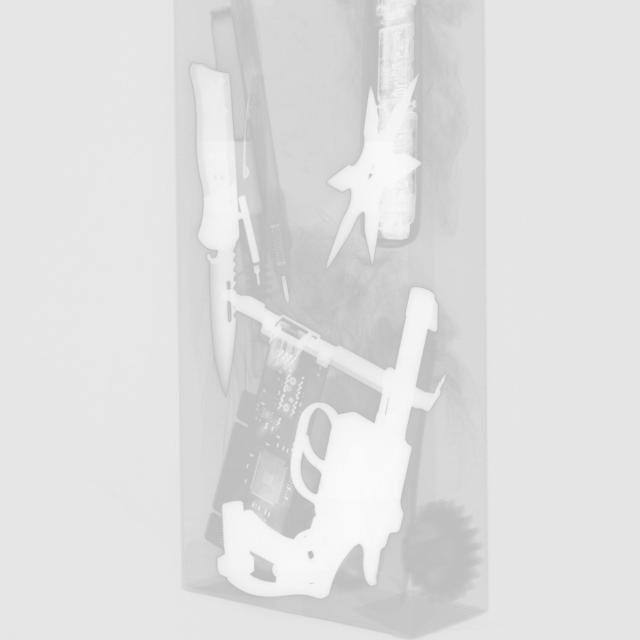knife: (186, 60, 242, 395)
pistol: (214, 287, 442, 602)
